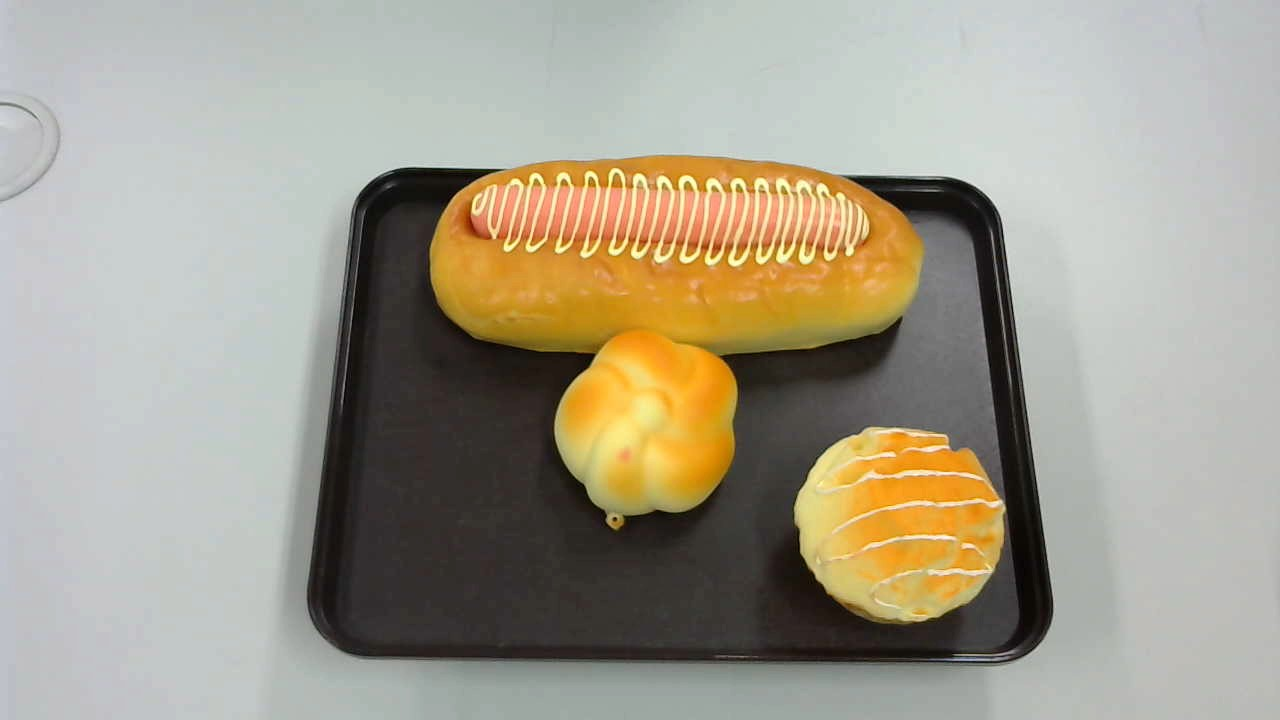croissant: (552, 329, 738, 529)
cupcake: (792, 425, 1008, 624)
hot dog: (428, 154, 925, 357)
